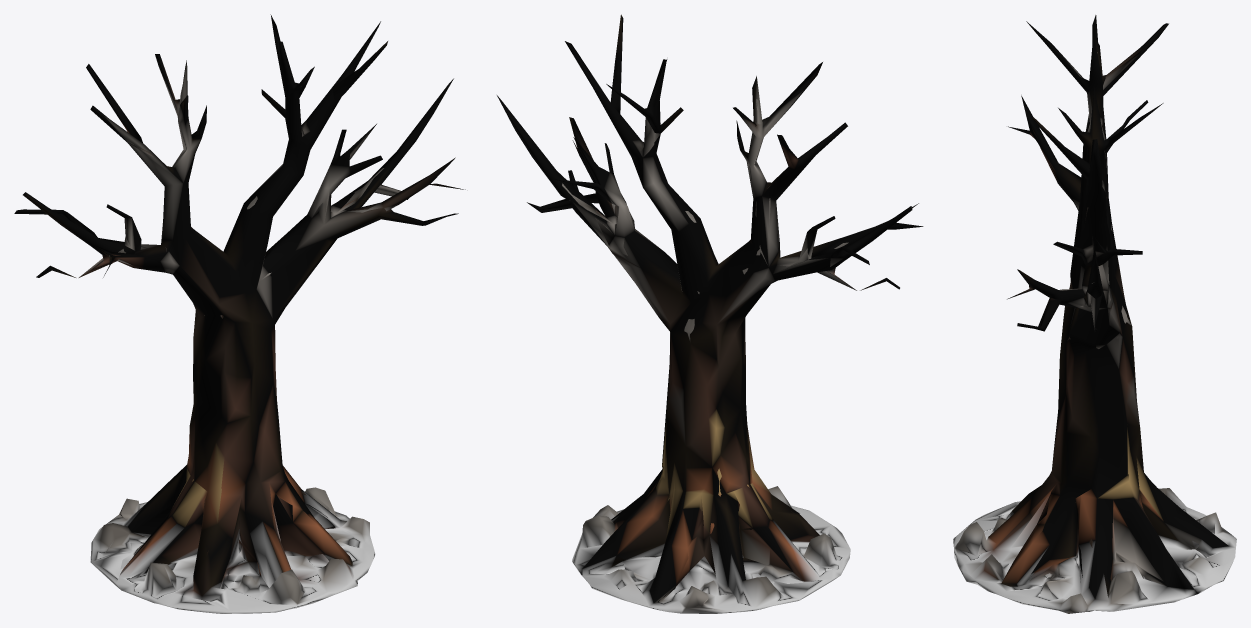
File: gen3d-burnt-tree-lod0.glb
3 renders of one model, left to right at view 1: azimuth 30°, elevation 25°; view 2: azimuth 150°, elevation 25°; view 3: azimuth 270°, elevation 25°, orthographic. The views are drawn at different scales.
Parts seen in each view (by area): view 1: part_0; view 2: part_0; view 3: part_0.
Part boxes in pixels (bbox=[...]): part_0: bbox=[14, 14, 465, 613]; part_0: bbox=[497, 14, 923, 613]; part_0: bbox=[953, 15, 1236, 613].
Bounding box in the file's own units: 0.8843 × 0.9995 × 0.5139.
